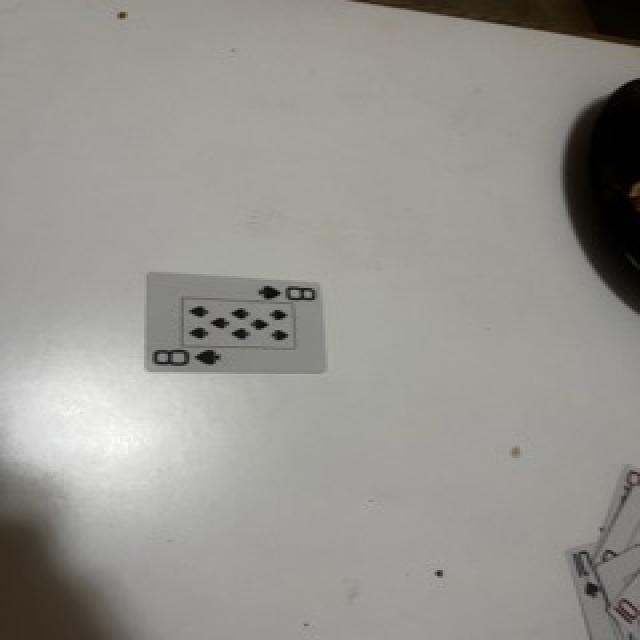8 of spades: (148, 272, 325, 372)
